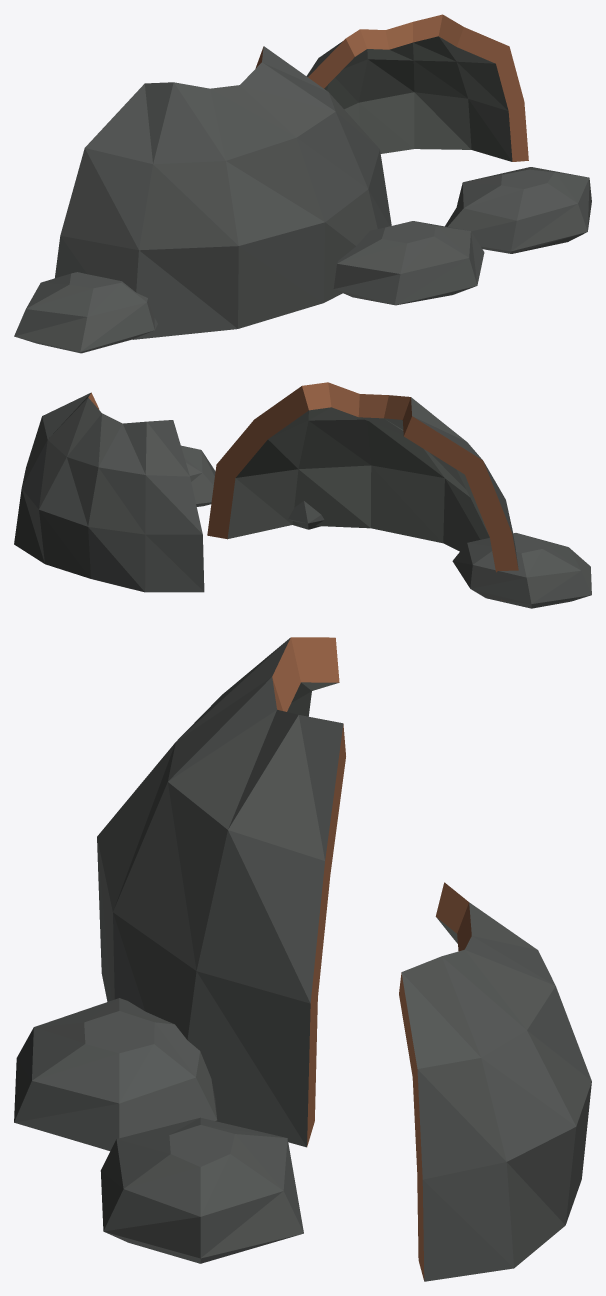
The model's file is Environment_Feature_Volcano_BrokenLavaShell_001_LOD1.glb.
3 renders of one model, top to bottom at view 1: azimuth 30°, elevation 25°; view 2: azimuth 150°, elevation 25°; view 3: azimuth 270°, elevation 25°, orthographic. The views are drawn at different scales.
Visible parts, largest first — view 1: Environment_Feature_Volcano_BrokenLavaShell_001_LOD1; view 2: Environment_Feature_Volcano_BrokenLavaShell_001_LOD1; view 3: Environment_Feature_Volcano_BrokenLavaShell_001_LOD1.
Boxes of the visible parts, left/top/right/bottom form: Environment_Feature_Volcano_BrokenLavaShell_001_LOD1: left=14, top=14, right=591, bottom=353; Environment_Feature_Volcano_BrokenLavaShell_001_LOD1: left=14, top=382, right=591, bottom=608; Environment_Feature_Volcano_BrokenLavaShell_001_LOD1: left=14, top=637, right=591, bottom=1281.
Bounding box in the file's own units: 5.32 × 1.82 × 2.85.
